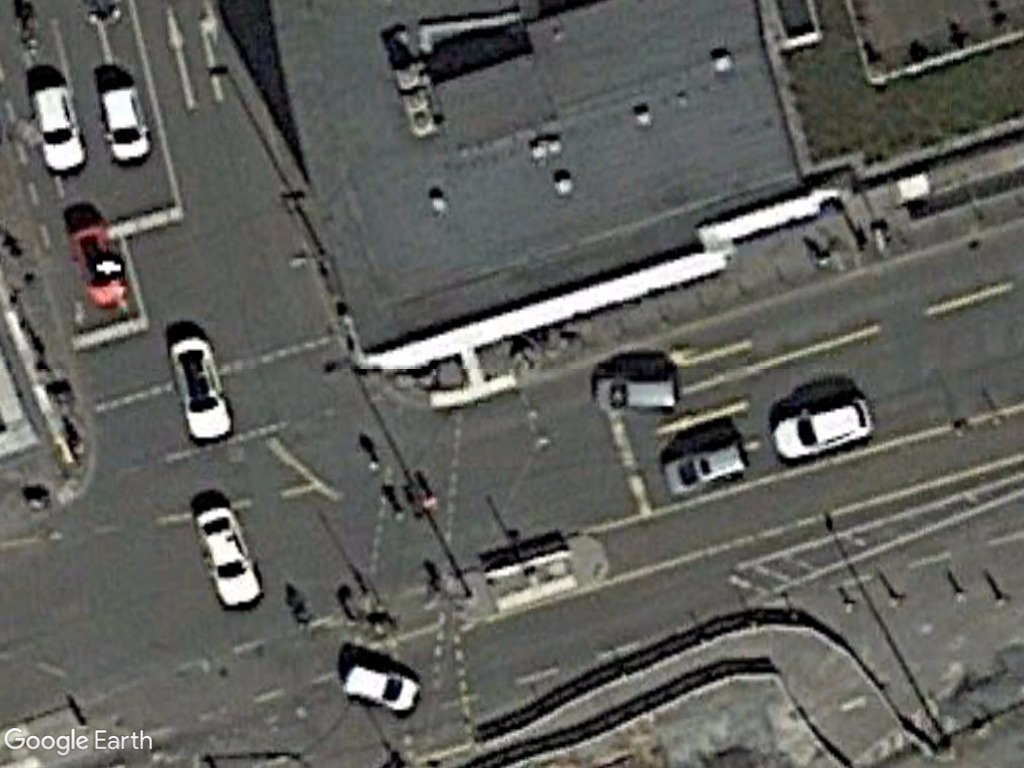car: (192, 503, 268, 616), (768, 395, 878, 465), (661, 435, 753, 498), (589, 371, 683, 417)
van: (28, 84, 92, 177), (97, 82, 155, 172)
